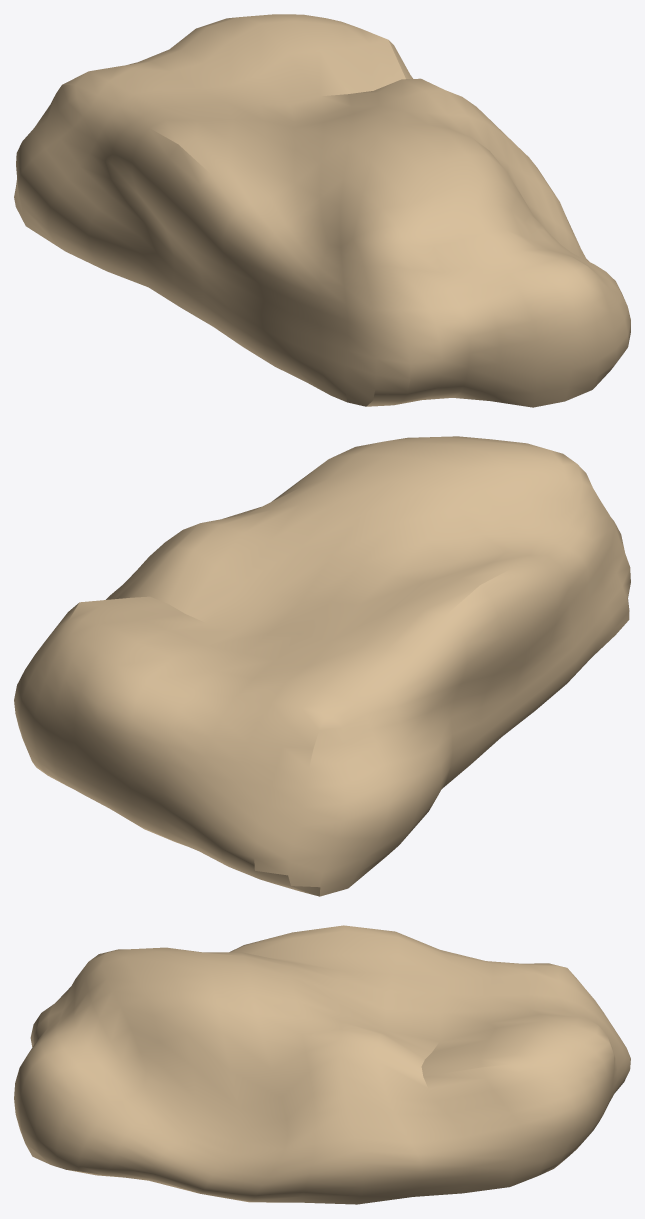
Rendered from Pure.fbx.
3 renders of one model, top to bottom at view 1: azimuth 30°, elevation 25°; view 2: azimuth 150°, elevation 25°; view 3: azimuth 270°, elevation 25°, orthographic. The views are drawn at different scales.
Parts seen in each view (by area): view 1: pure; view 2: pure; view 3: pure.
Part boxes in pixels (x1=…): pure: x1=14, y1=14, x2=630, y2=407; pure: x1=14, y1=436, x2=630, y2=896; pure: x1=14, y1=925, x2=630, y2=1204.
Size of the model in its own units: 5.02 by 2.51 by 8.14.
